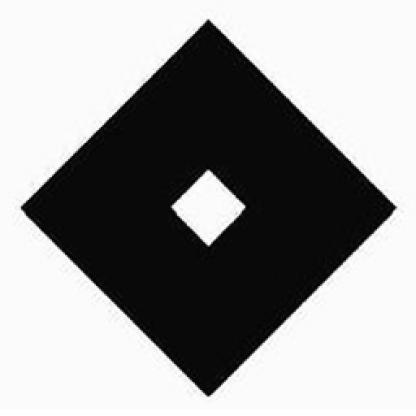kamon: (20, 15, 400, 398)
